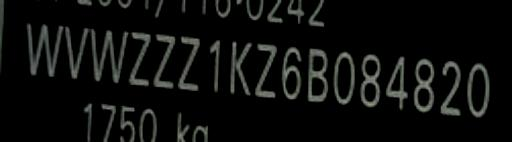letter: (22, 17, 64, 77), (88, 26, 130, 86), (463, 56, 493, 118), (330, 46, 358, 108), (410, 54, 438, 116), (61, 22, 89, 82), (253, 40, 281, 100), (304, 44, 330, 106), (357, 50, 383, 112), (149, 32, 177, 88), (126, 28, 152, 88), (177, 32, 203, 92), (226, 36, 252, 96), (438, 58, 464, 118), (383, 52, 409, 110), (279, 42, 303, 102), (204, 36, 222, 96)
